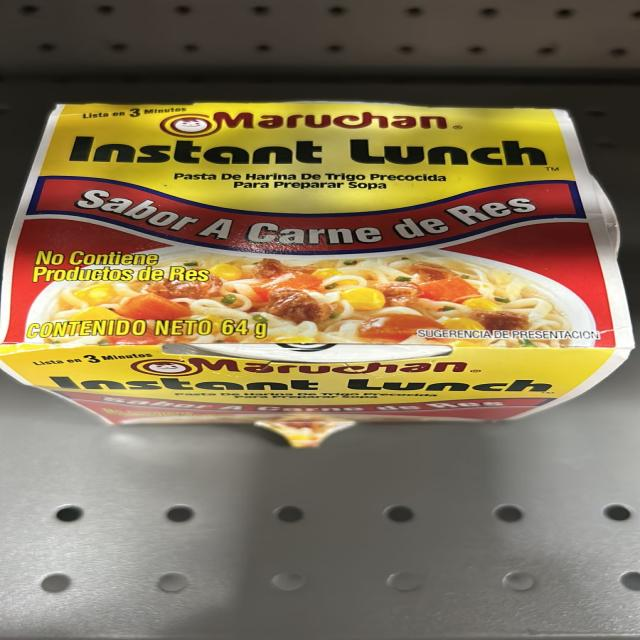maruchanRes: (44, 110, 588, 433)
